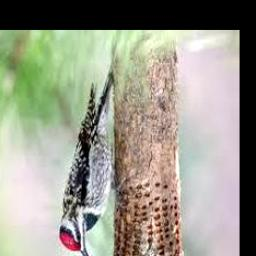Woodpecker: (60, 68, 116, 256)
